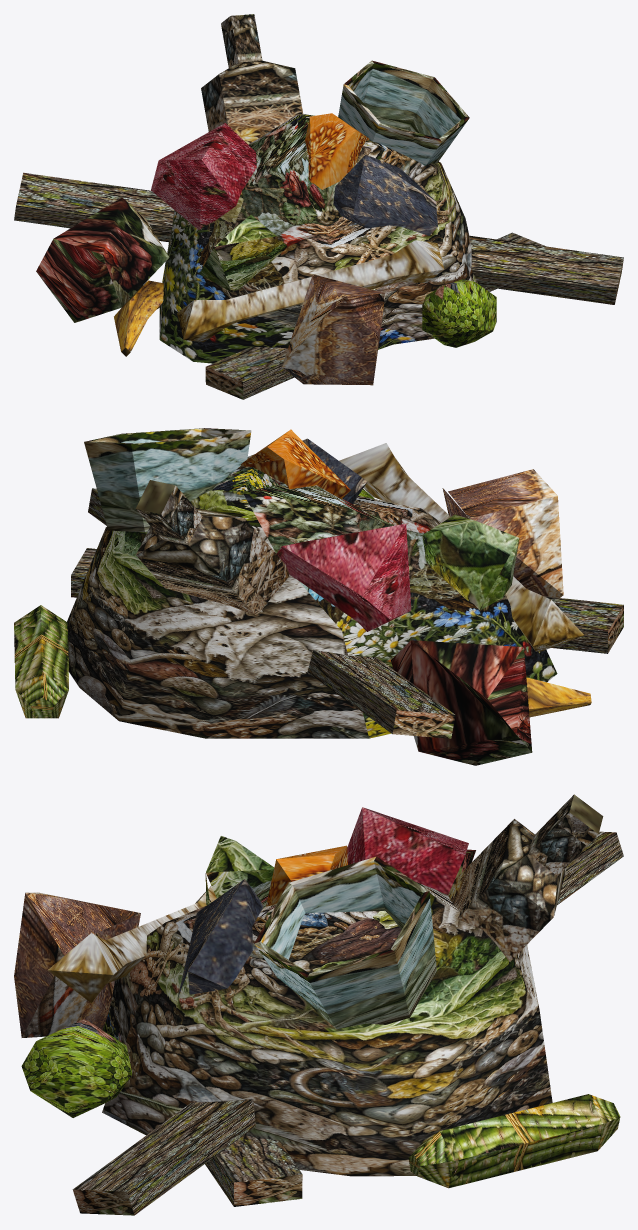
Rendered from mm9_deco_trashpile.glb.
3 views of the same model, one above another, from view 1: azimuth 30°, elevation 25°; view 2: azimuth 150°, elevation 25°; view 3: azimuth 270°, elevation 25° (orthographic). The views are drawn at different scales.
Parts seen in each view (by area): view 1: Trashpile; view 2: Trashpile; view 3: Trashpile.
Boxes of the visible parts, x1,y1,x2,y2 form: Trashpile: (14,14,623,399); Trashpile: (14,428,623,765); Trashpile: (14,794,623,1215).
Size of the model in its own units: 1.1 by 0.4688 by 0.9143.
2 materials, 2 textured.
